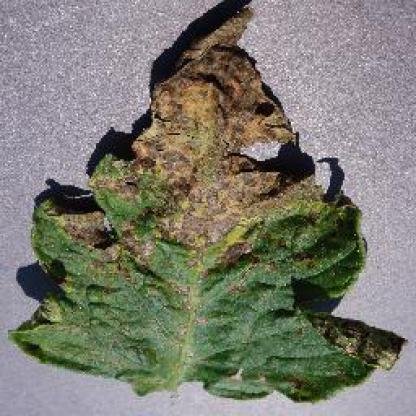bad leaf: (54, 0, 351, 341)
